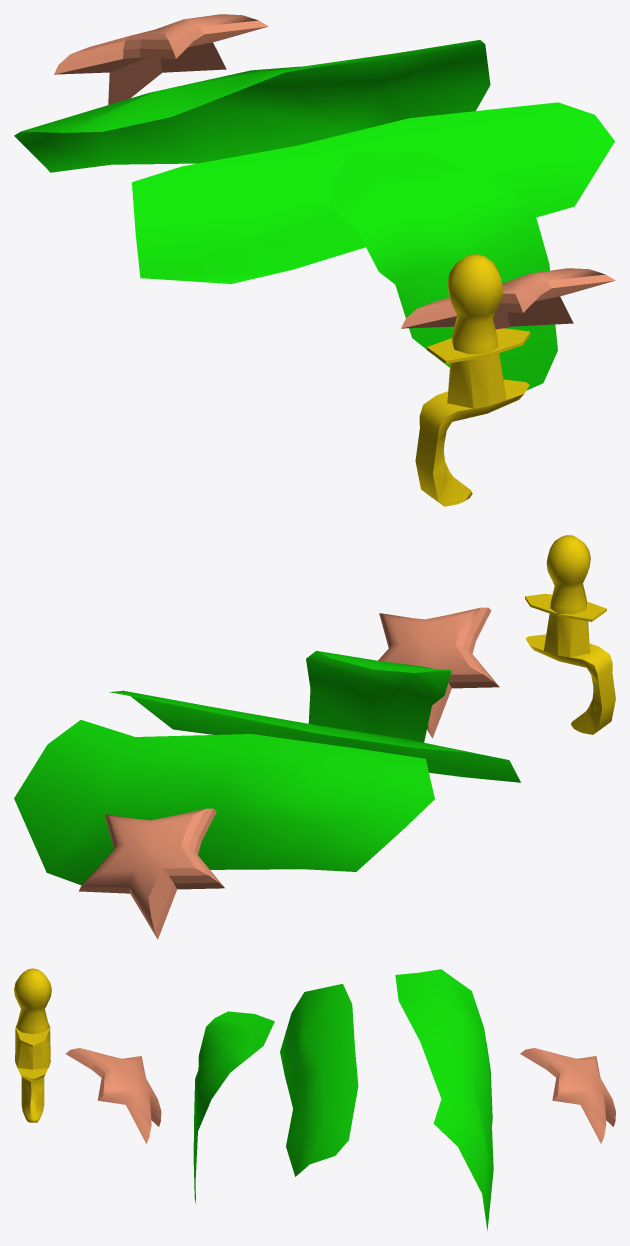
File: Enfeites.fbx
3 renders of one model, top to bottom at view 1: azimuth 30°, elevation 25°; view 2: azimuth 150°, elevation 25°; view 3: azimuth 270°, elevation 25°, orthographic. The views are drawn at different scales.
Visible parts, largest first — view 1: Arma2.005, Alga, Arma2.008, GatilhoPolvores, Estrela, Estrela.001; view 2: Alga, Arma2.008, Estrela, Arma2.005, GatilhoPolvores, Estrela.001; view 3: Alga, Arma2.005, Arma2.008, GatilhoPolvores, Estrela, Estrela.001.
Boxes of the visible parts, <box> form: Arma2.005: <box>132,102,614,283</box>; Alga: <box>14,40,490,172</box>; Arma2.008: <box>332,152,557,390</box>; GatilhoPolvores: <box>415,254,530,506</box>; Estrela: <box>54,14,268,104</box>; Estrela.001: <box>401,268,615,329</box>; Alga: <box>14,720,434,885</box>; Arma2.008: <box>306,651,451,742</box>; Estrela: <box>79,808,224,939</box>; Arma2.005: <box>109,690,520,782</box>; GatilhoPolvores: <box>525,535,615,734</box>; Estrela.001: <box>378,607,499,738</box>; Alga: <box>395,969,493,1230</box>; Arma2.005: <box>280,983,358,1176</box>; Arma2.008: <box>193,1011,274,1204</box>; GatilhoPolvores: <box>14,968,51,1122</box>; Estrela: <box>520,1048,615,1143</box>; Estrela.001: <box>65,1048,161,1143</box>.
Size of the model in its own units: 145 by 74.48 by 230.
